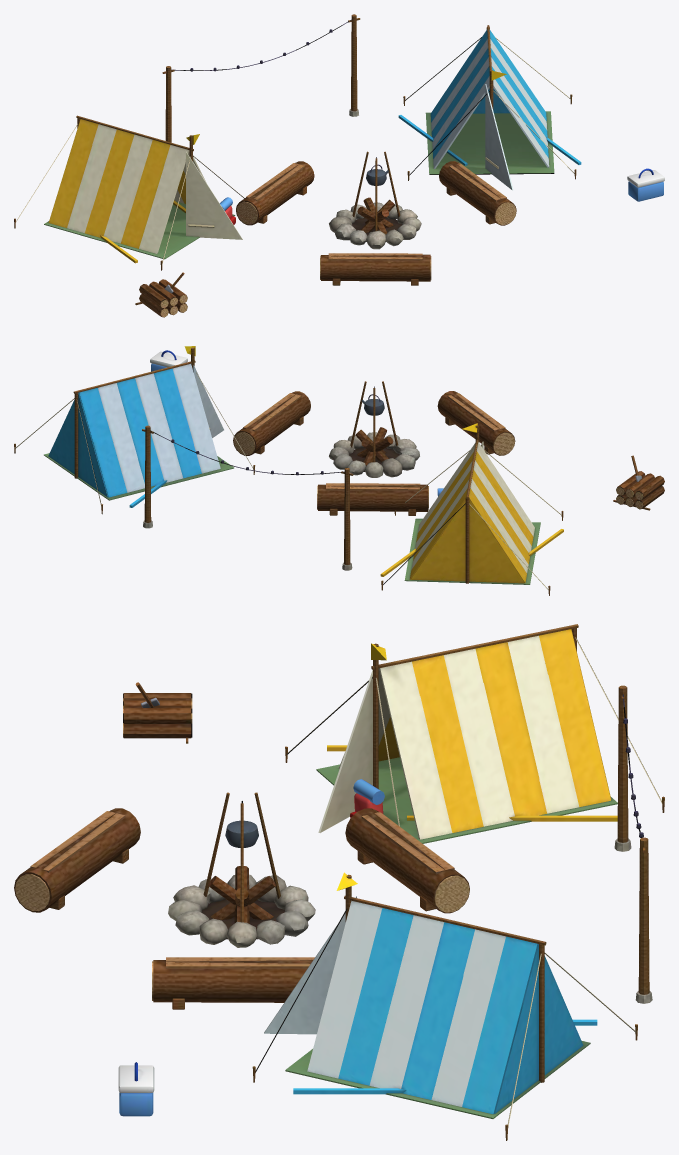
Rendered from campsite.glb.
3 views of the same model, one above another, from view 1: azimuth 30°, elevation 25°; view 2: azimuth 150°, elevation 25°; view 3: azimuth 270°, elevation 25° (orthographic). The views are drawn at different scales.
Parts seen in each view (by area): view 1: box; view 2: box; view 3: box.
Boxes of the visible parts, x1,y1,x2,y2 form: box: [14, 14, 664, 317]; box: [14, 346, 664, 595]; box: [14, 624, 664, 1140].
Size of the model in its own units: 24.17 by 4.52 by 15.39.
1 material, 1 textured.
